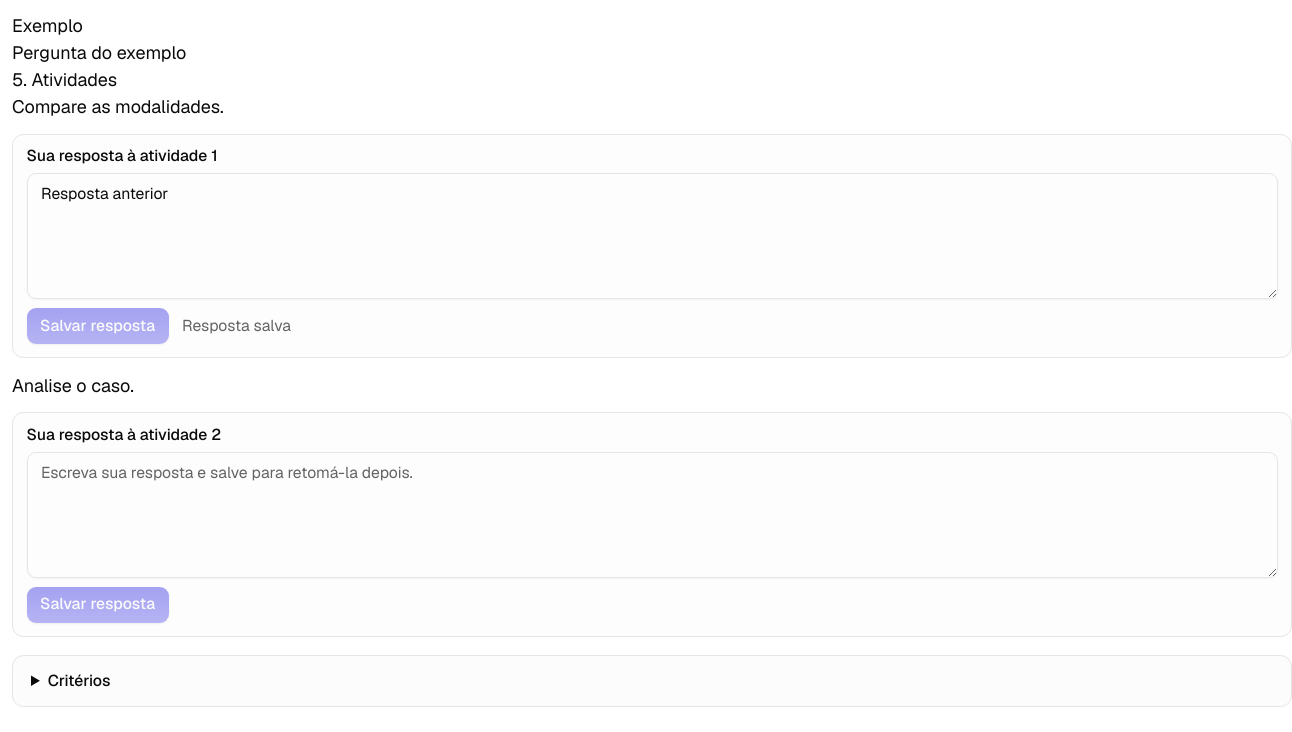
Test: Respostas nas perguntas dentro da aula › insere campo abaixo de cada pergunta e retoma a resposta, sem campos no exemplo ou critérios
The width and height of the screenshot is (1292, 732).
Expected: the list item labelled "Sua resposta à atividade 1" shows "Compare as modalidades.", [12, 95, 224, 118]
Replace the text in the text box labelled "Sua resposta à atividade 1" with "Resposta editada" at point(652, 236), box [26, 173, 1278, 299]
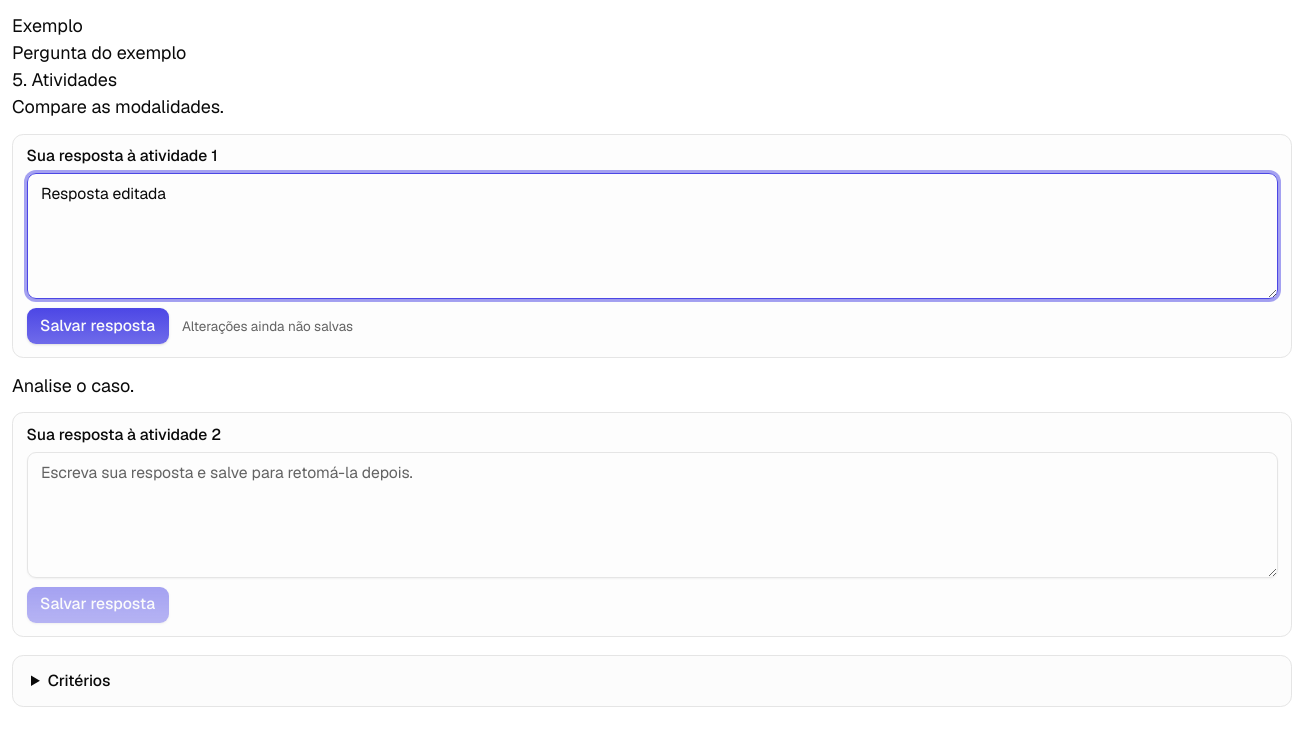
Click the button with aria-label "Salvar resposta da atividade 1" at point(98, 326), box [26, 308, 168, 344]
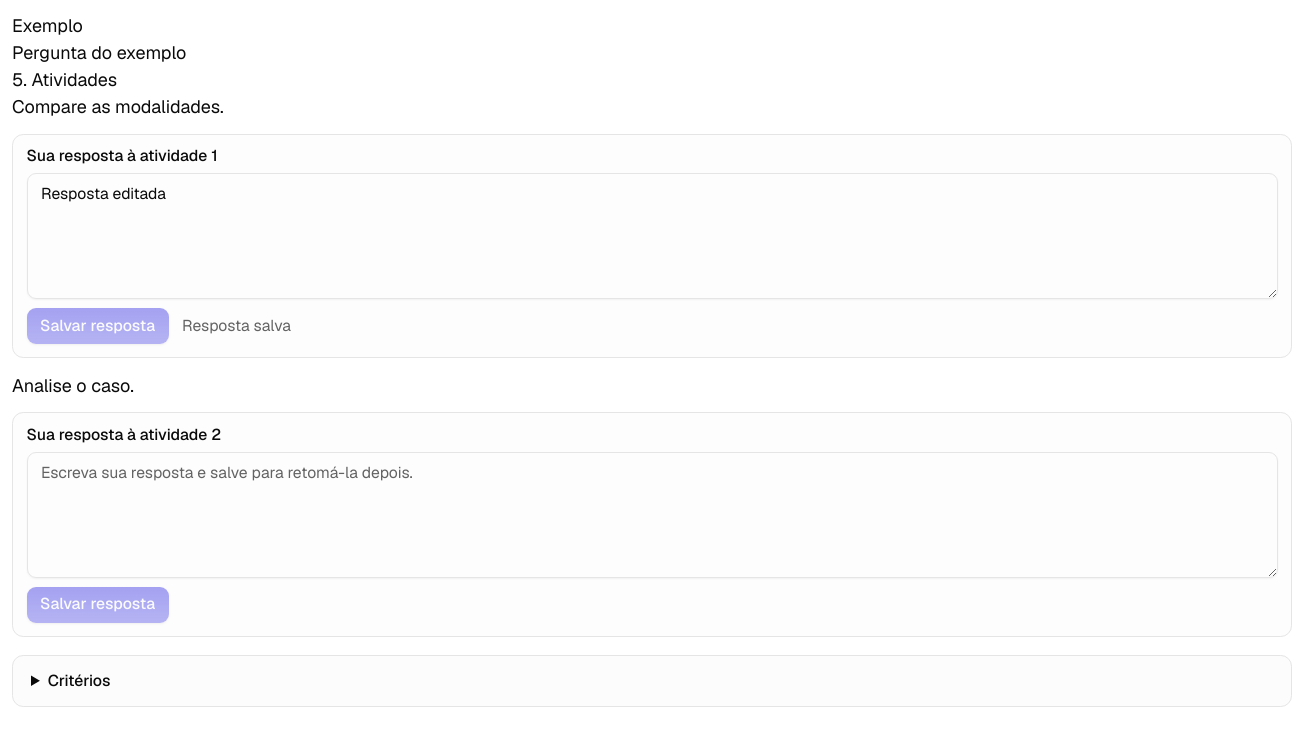
Now the text "Resposta salva" is shown, box [182, 314, 291, 337]
